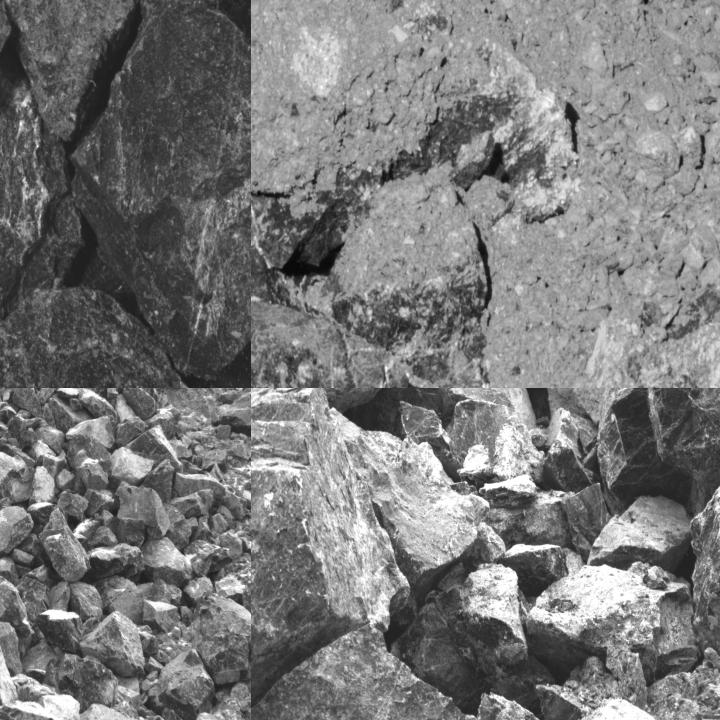stone: (74, 0, 250, 378), (251, 388, 412, 719), (331, 408, 490, 574), (336, 187, 490, 339), (0, 60, 76, 358), (526, 561, 700, 684), (0, 289, 215, 387), (0, 0, 139, 137), (251, 278, 410, 387), (596, 388, 719, 517), (446, 562, 529, 677), (195, 594, 250, 690), (44, 654, 117, 712), (81, 611, 146, 675), (492, 415, 545, 485), (159, 651, 214, 718), (543, 430, 592, 494), (116, 481, 170, 538), (38, 525, 90, 584), (126, 424, 183, 472), (138, 537, 192, 584), (98, 577, 155, 620), (68, 436, 112, 488), (110, 447, 156, 493), (38, 609, 87, 652), (88, 544, 144, 581), (0, 506, 36, 558), (210, 392, 250, 435), (0, 452, 32, 505), (184, 540, 231, 576), (70, 582, 104, 621), (117, 388, 158, 419), (76, 702, 142, 719), (242, 580, 250, 628)
